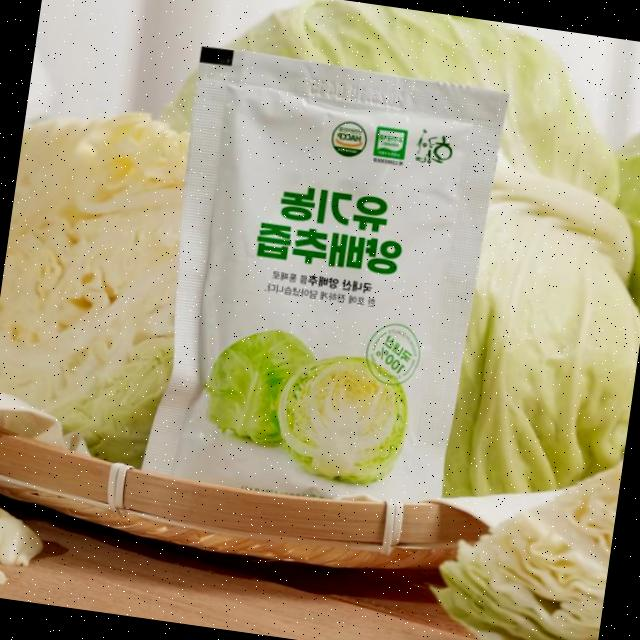cabbage: (0, 123, 196, 452), (190, 320, 416, 494)
